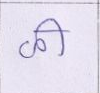i_matra: (45, 18, 68, 56)
